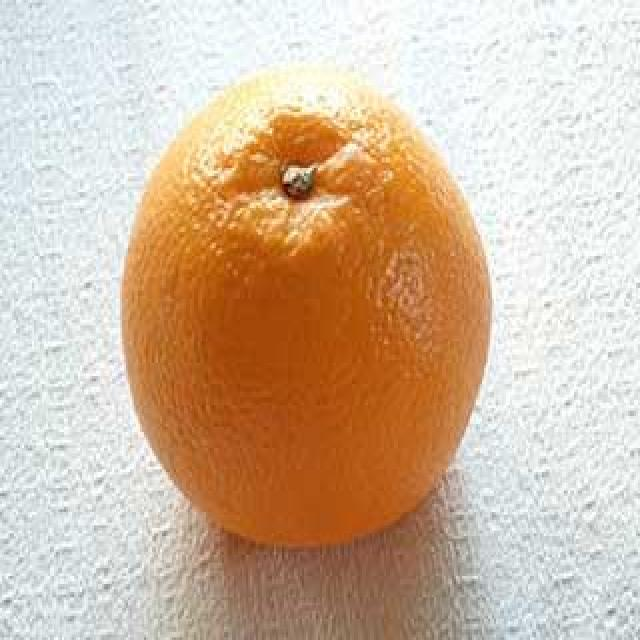Orange: (121, 68, 496, 550)
